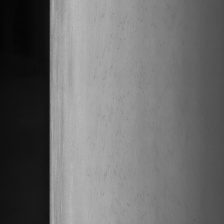silk_spot: (86, 12, 140, 198)
